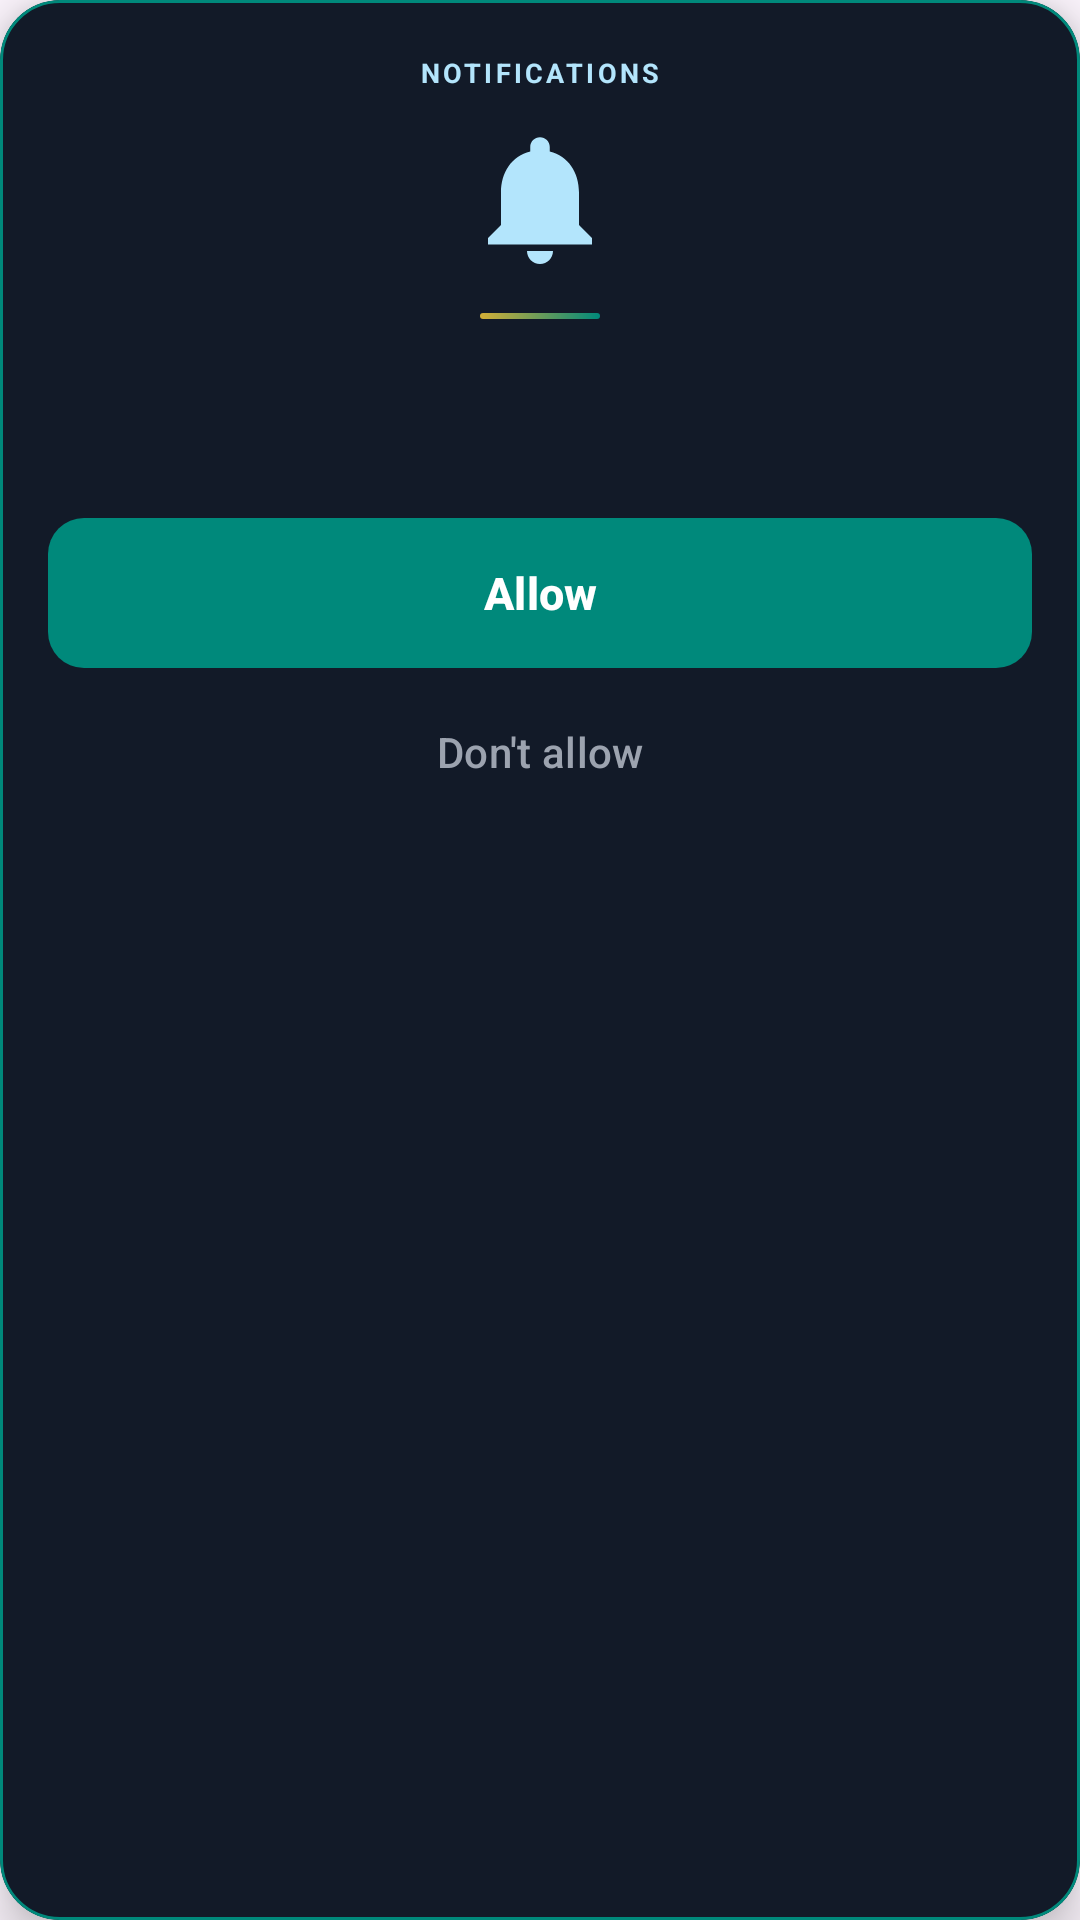

Locate icon controls on the screen. Image size 1080px x 1920px, boxes as (x1, y1, x2, y2).
notification bell: (488, 137, 592, 264)
